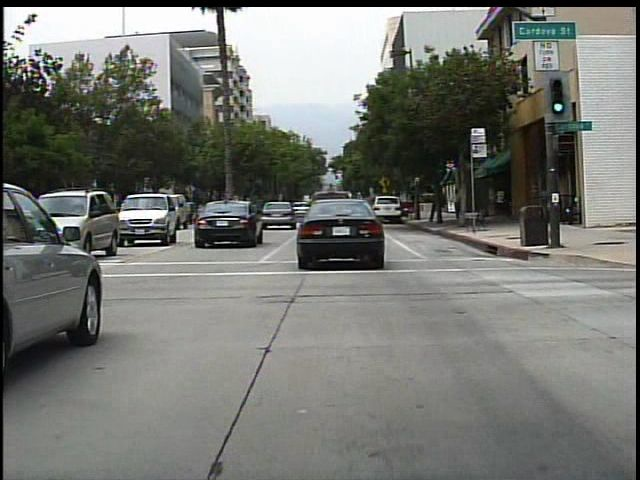person: (448, 185, 468, 225)
